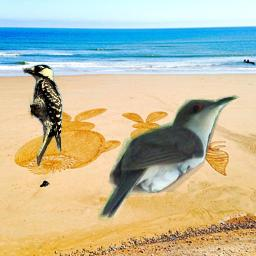Cuckoo: (98, 95, 240, 222)
Woodpecker: (21, 64, 64, 167)
